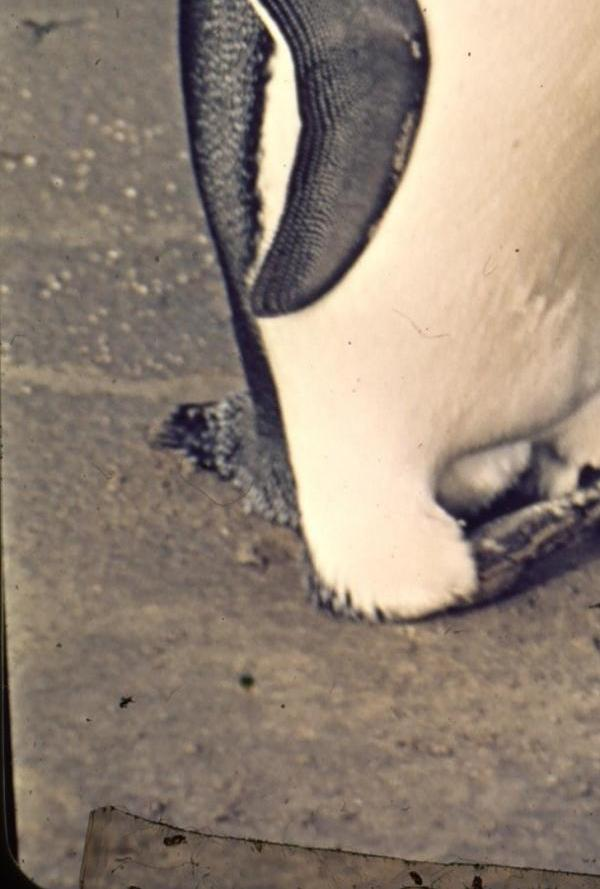Emperor Penguin: (147, 0, 600, 660)
